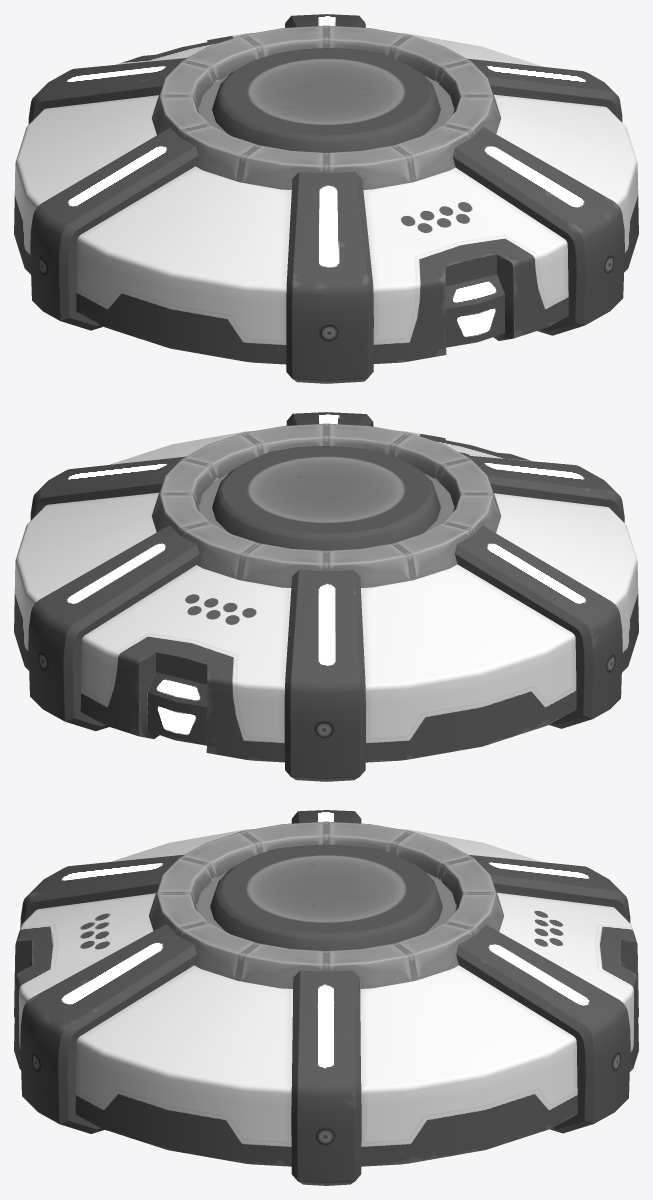
Rendered from ScifiMine01.FBX.
The picture shows the model from 3 angles, top to bottom: view 1: azimuth 30°, elevation 25°; view 2: azimuth 150°, elevation 25°; view 3: azimuth 270°, elevation 25°; orthographic projection.
Visible parts, largest first — view 1: ScifiMine01; view 2: ScifiMine01; view 3: ScifiMine01.
Boxes of the visible parts, x1,y1,x2,y2 form: ScifiMine01: (14,14,638,383); ScifiMine01: (14,412,638,781); ScifiMine01: (14,810,638,1185).
Size of what is drawn, in the model's own units: 0.3801 by 0.1087 by 0.3549.
